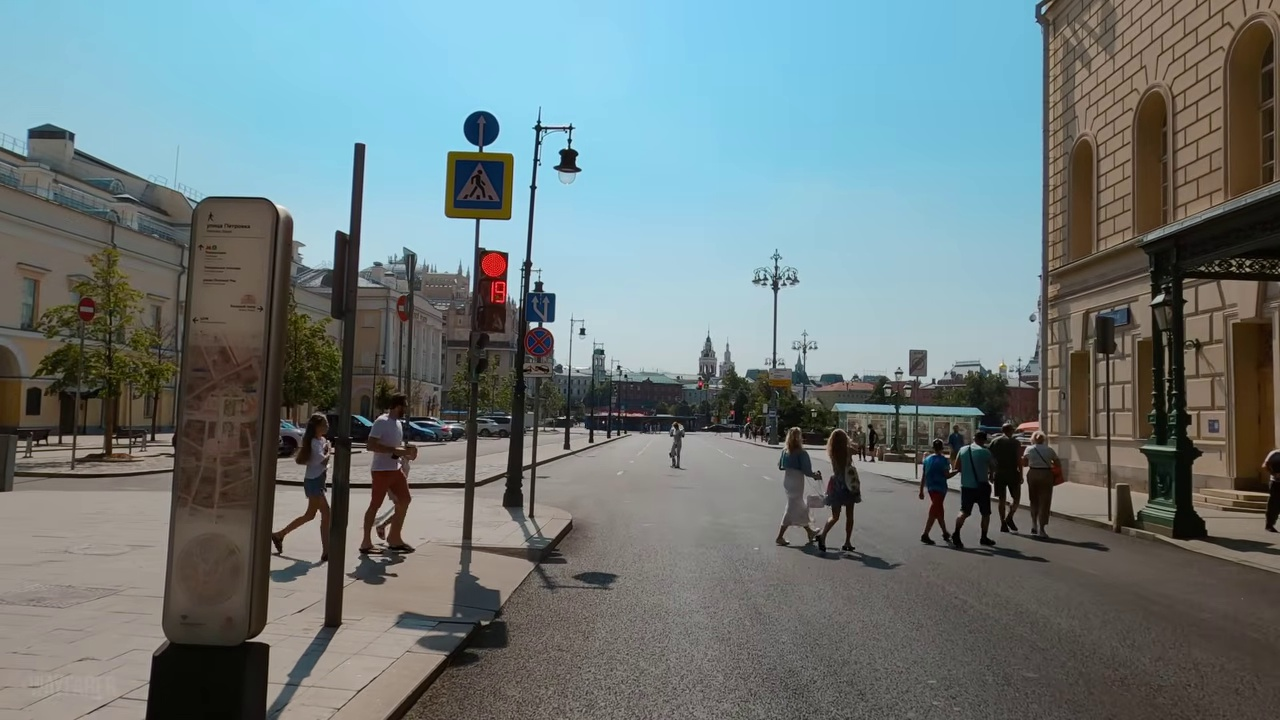apagada: (750, 264, 800, 298), (548, 149, 582, 194)
